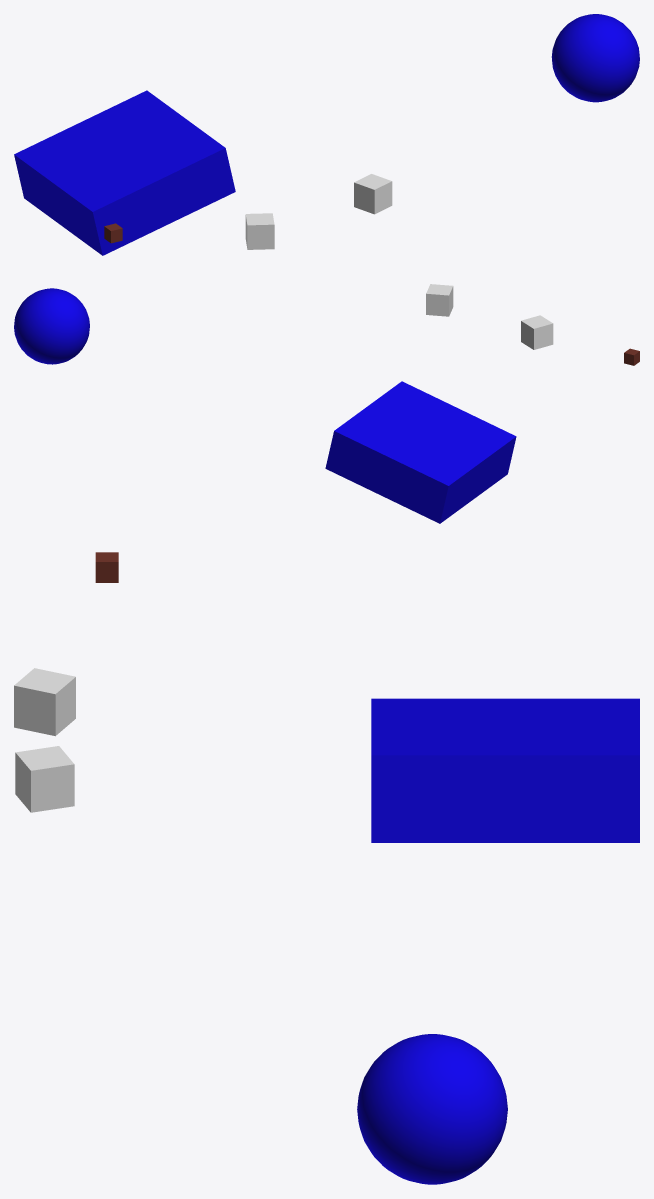
File: testVehicle1Scene.glb
3 renders of one model, top to bottom at view 1: azimuth 30°, elevation 25°; view 2: azimuth 150°, elevation 25°; view 3: azimuth 270°, elevation 25°, orthographic. The views are drawn at different scales.
Visible parts, largest first — view 1: Cube_static_, Sphere_static_, _class_TENTELondonBus_001, _class_TENTECamionFurgon_.001; view 2: Cube_static_, Sphere_static_, _class_TENTECamionFurgon_.001, _class_TENTELondonBus_001; view 3: Cube_static_, Sphere_static_, _class_TENTECamionFurgon_.001, _class_TENTELondonBus_001.
Boxes of the visible parts, x1,y1,x2,y2 form: Cube_static_: [14, 90, 235, 255]; Sphere_static_: [551, 14, 639, 102]; _class_TENTELondonBus_001: [354, 174, 392, 214]; _class_TENTECamionFurgon_.001: [245, 213, 274, 249]; Cube_static_: [325, 381, 516, 523]; Sphere_static_: [14, 288, 89, 364]; _class_TENTECamionFurgon_.001: [521, 315, 553, 349]; _class_TENTELondonBus_001: [426, 284, 453, 316]; Cube_static_: [371, 698, 639, 842]; Sphere_static_: [357, 1034, 507, 1184]; _class_TENTECamionFurgon_.001: [14, 668, 75, 736]; _class_TENTELondonBus_001: [15, 746, 74, 812].
Size of what is drawn, in the model's own units: 52.93 by 8.26 by 27.04.
